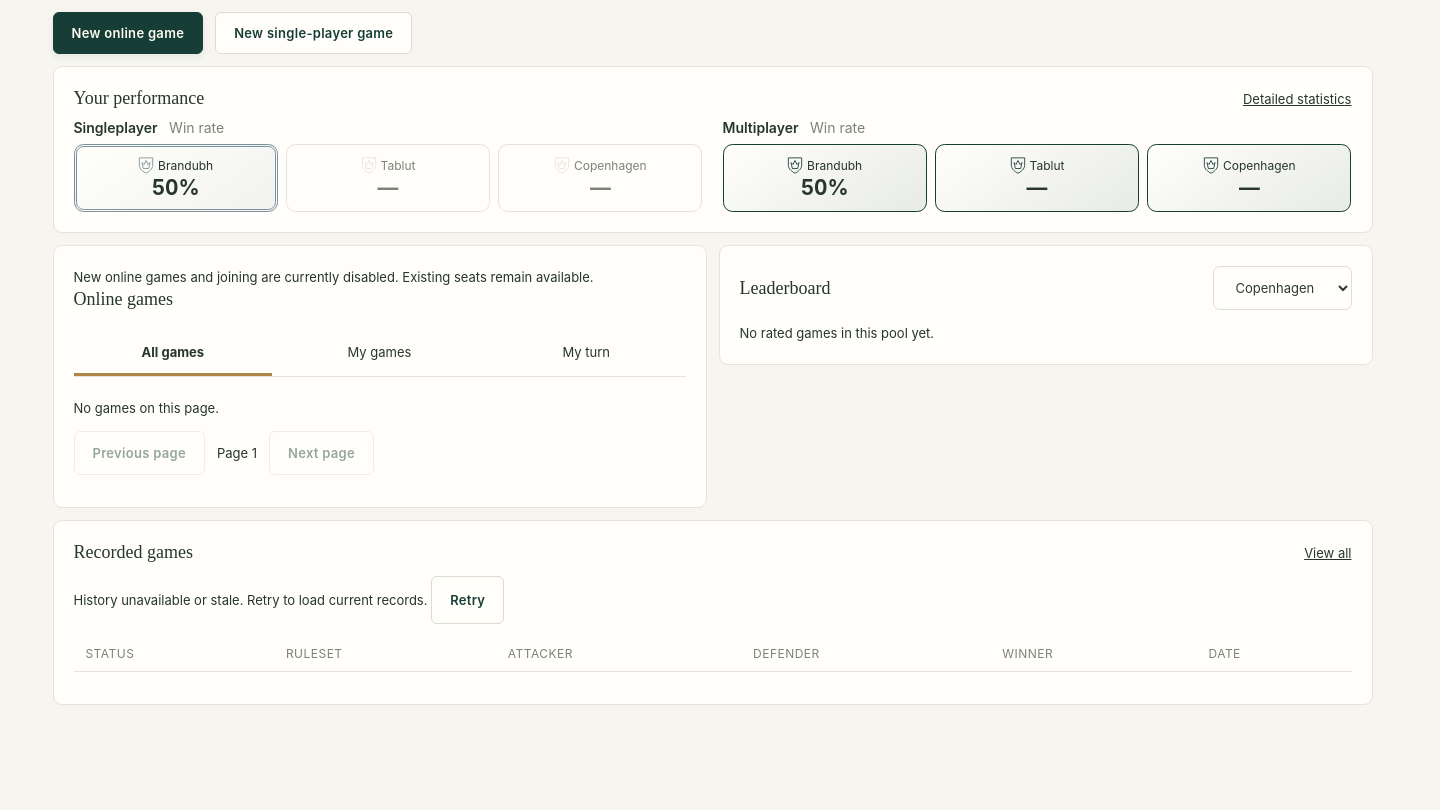
it: shows stale retry and recovers empty recent results
Click the button "Retry" at (468, 600), box [431,576,504,624]
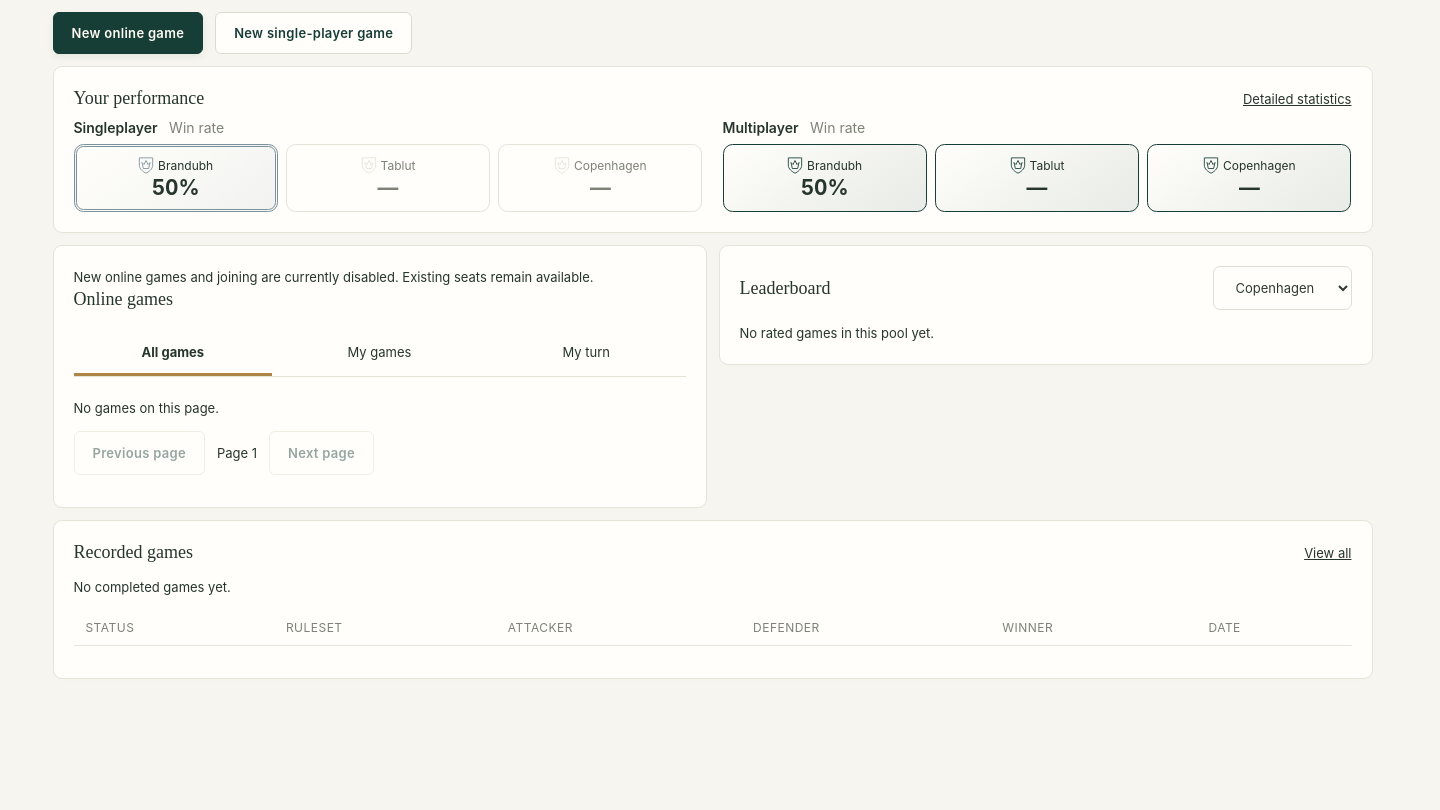
Check: the text "No completed games yet." is shown, box [74,579,231,595]
